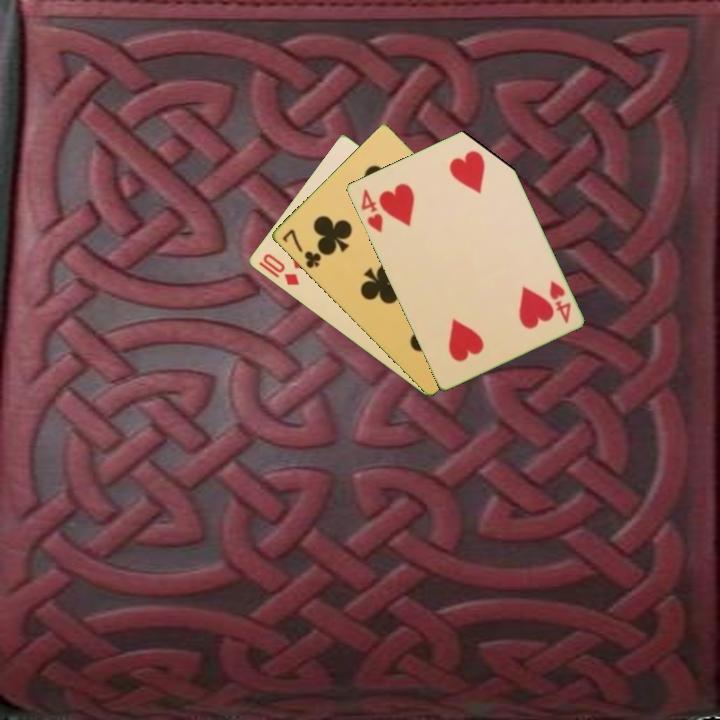10d: (259, 250, 302, 289)
4h: (357, 185, 386, 236), (545, 277, 574, 326)
7c: (278, 225, 324, 271)
